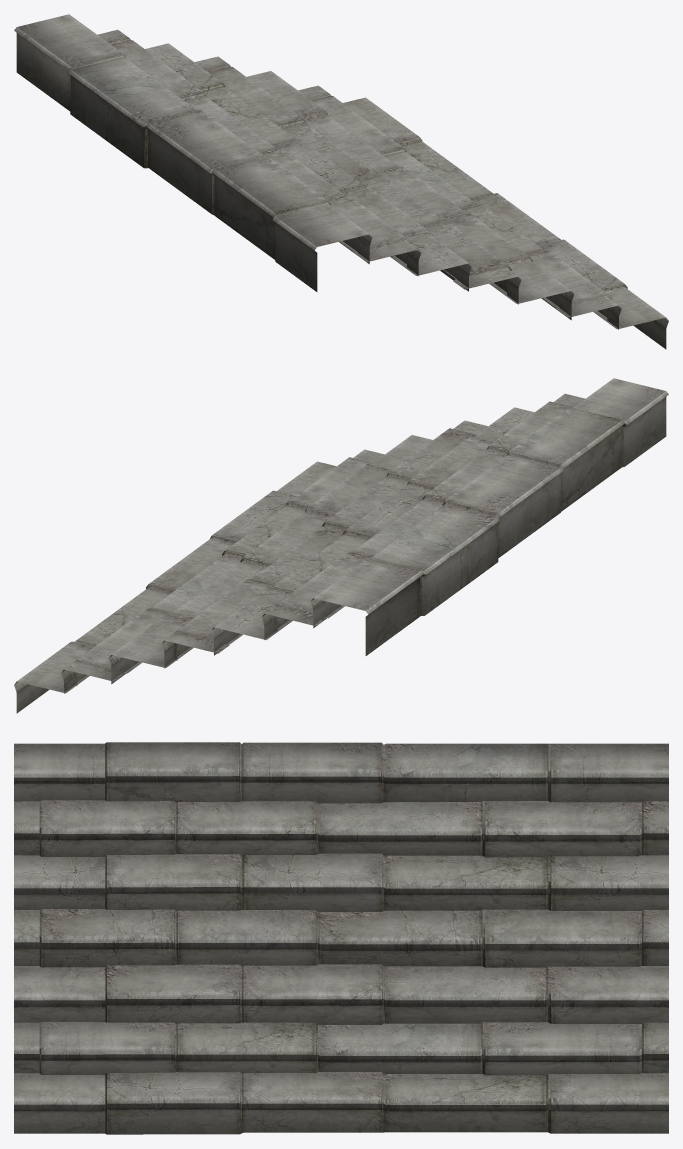
Rendered from bg_lut_lucastle_stair02_sm_lkj.FBX.
3 views of the same model, one above another, from view 1: azimuth 30°, elevation 25°; view 2: azimuth 150°, elevation 25°; view 3: azimuth 270°, elevation 25° (orthographic). The views are drawn at different scales.
Parts seen in each view (by area): view 1: bg_lut_lucastle_stair02_sm_lkj; view 2: bg_lut_lucastle_stair02_sm_lkj; view 3: bg_lut_lucastle_stair02_sm_lkj.
Boxes of the visible parts, x1,y1,x2,y2 form: bg_lut_lucastle_stair02_sm_lkj: (14, 14, 668, 349); bg_lut_lucastle_stair02_sm_lkj: (14, 378, 668, 713); bg_lut_lucastle_stair02_sm_lkj: (14, 742, 668, 1134).
Size of the model in its own units: 264 by 134 by 384.
